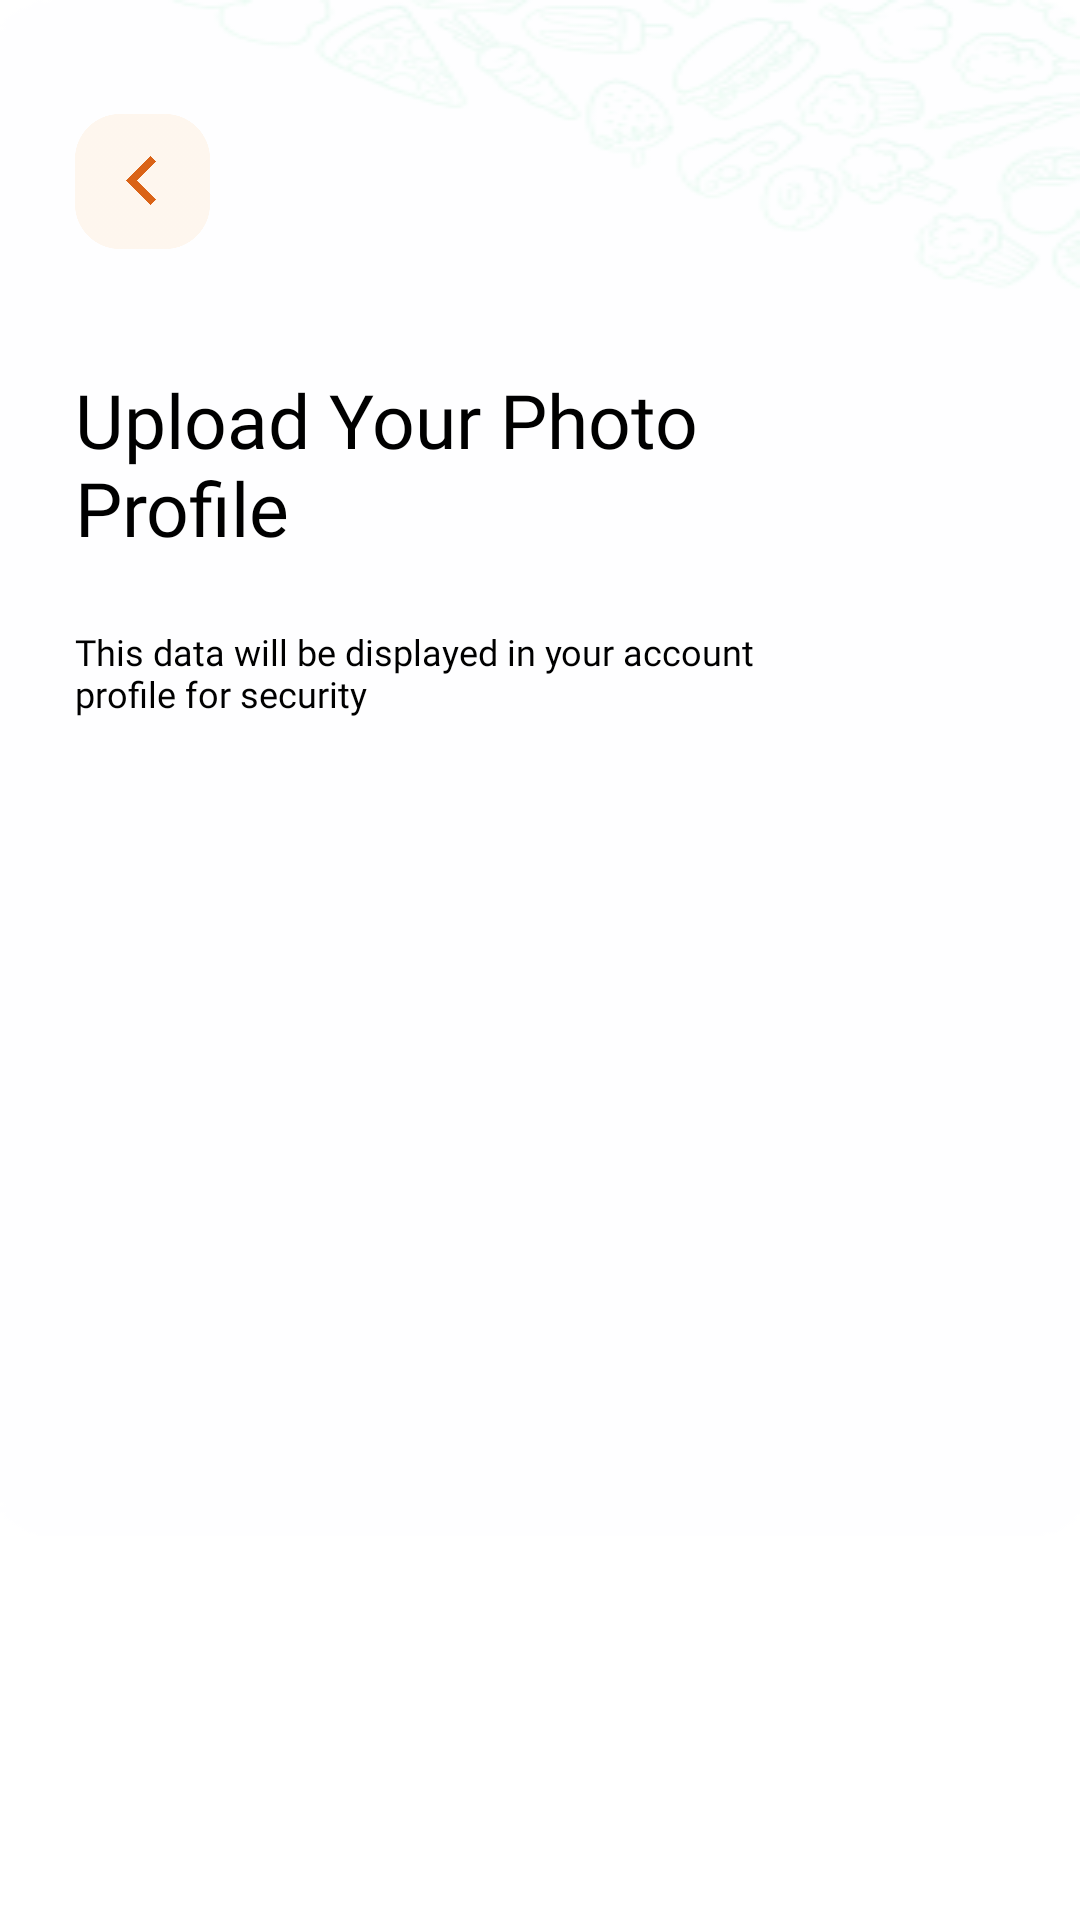

Where icons sit on this 1080 × 1920 app screen, as rect(x1, y1, x2, y2):
backicon: rect(75, 114, 210, 249)
